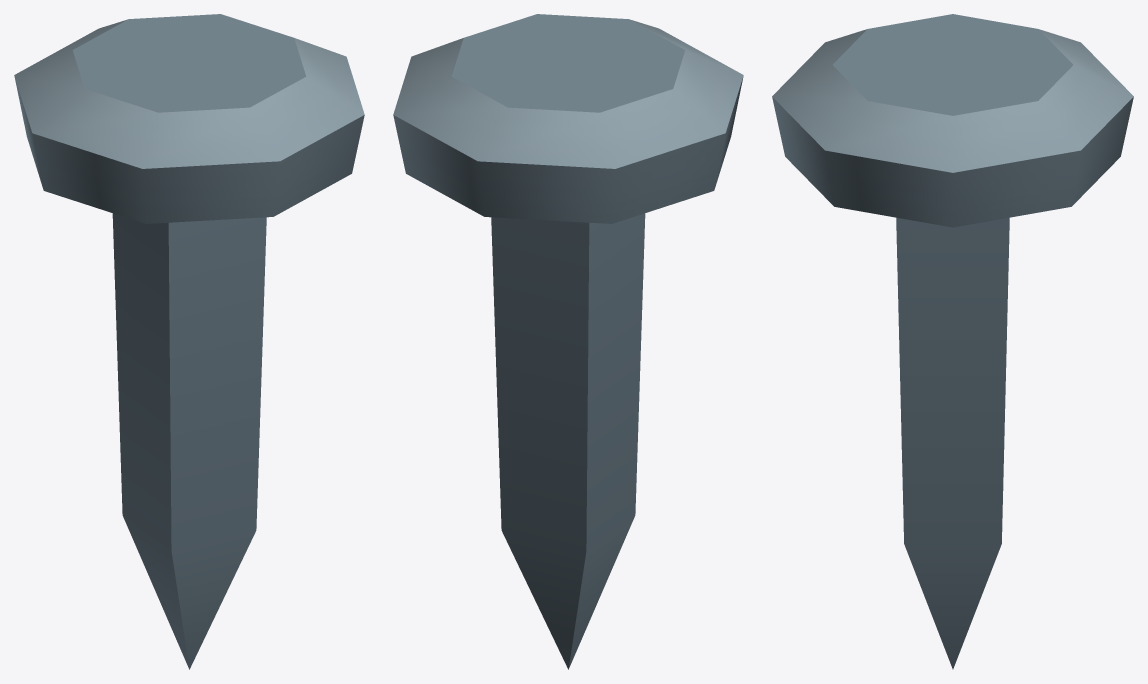
File: nail.obj
3 views of the same model, side by side, from view 1: azimuth 30°, elevation 25°; view 2: azimuth 150°, elevation 25°; view 3: azimuth 270°, elevation 25° (orthographic).
Parts seen in each view (by area): view 1: nail; view 2: nail; view 3: nail.
Boxes of the visible parts, x1,y1,x2,y2 form: nail: (14,14,364,669); nail: (393,14,743,669); nail: (772,14,1133,669).
Size of the model in its own units: 0.1589 by 0.2931 by 0.1589.
Materials: 1 (1 with a texture image).
